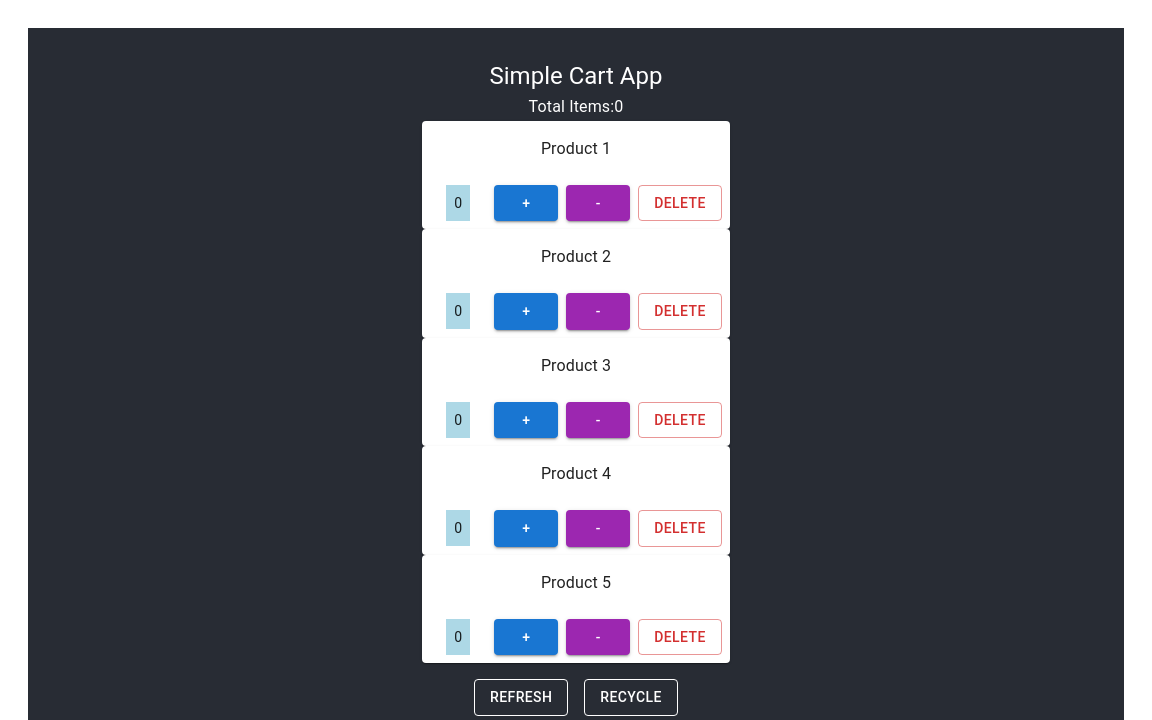
Test: Cart component › adds an item to the cart
Click the button "+" below "Product 1".
click(526, 203)  # box [494,184,558,221]
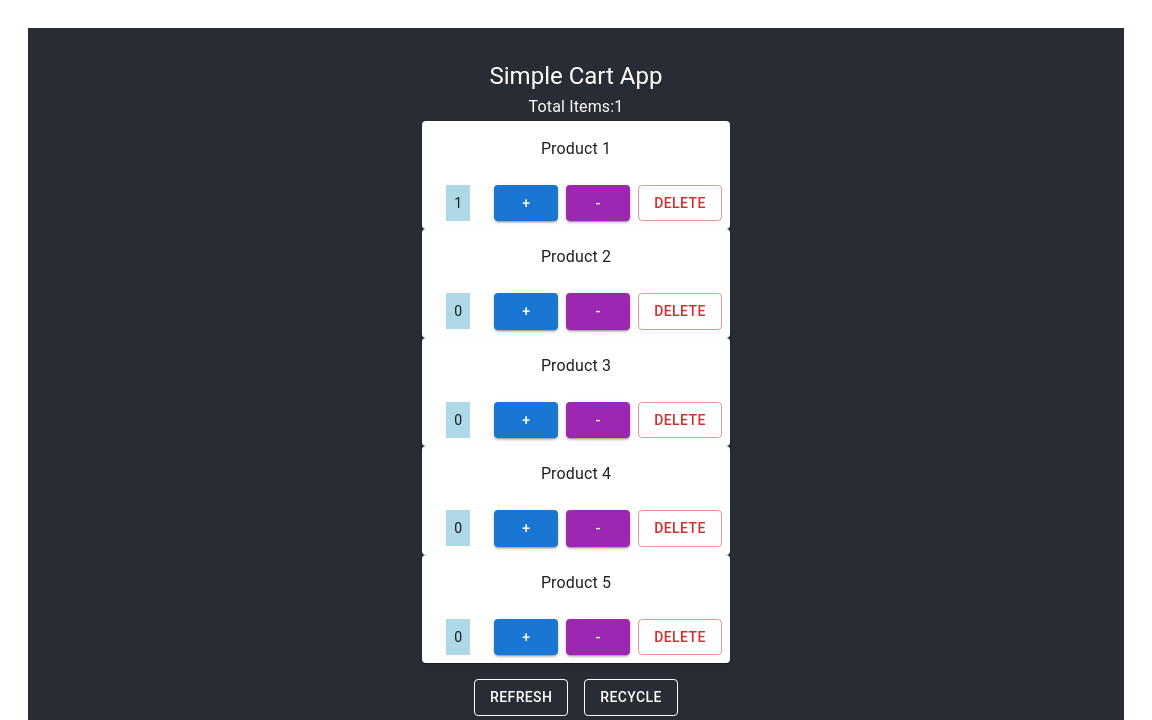
Expected: the heading with test id "total-items" reads "Total Items:1", [528,92,623,120]
